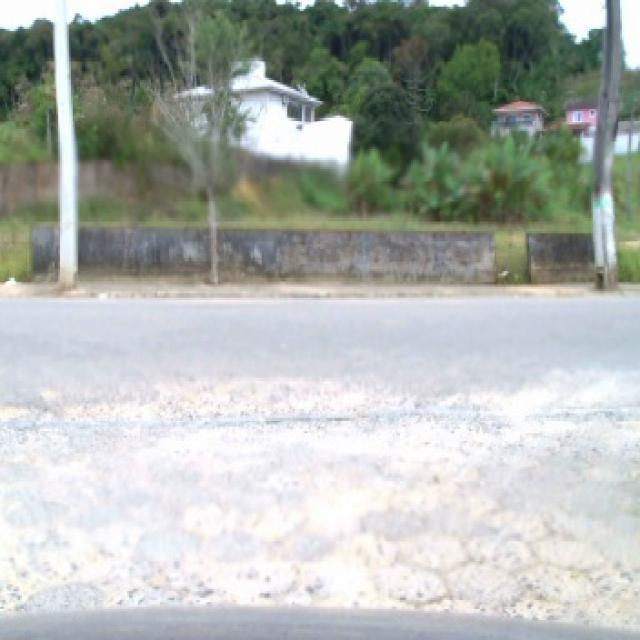Poth-hole: (0, 375, 625, 444), (0, 524, 347, 611), (492, 574, 590, 622)
